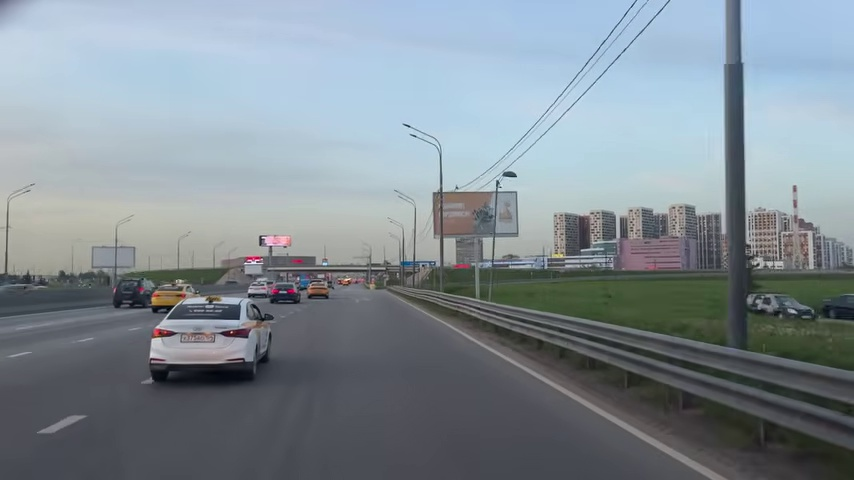apagada: (399, 120, 420, 142), (501, 168, 518, 182)
